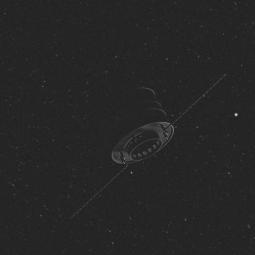double_start: (102, 78, 177, 180)
